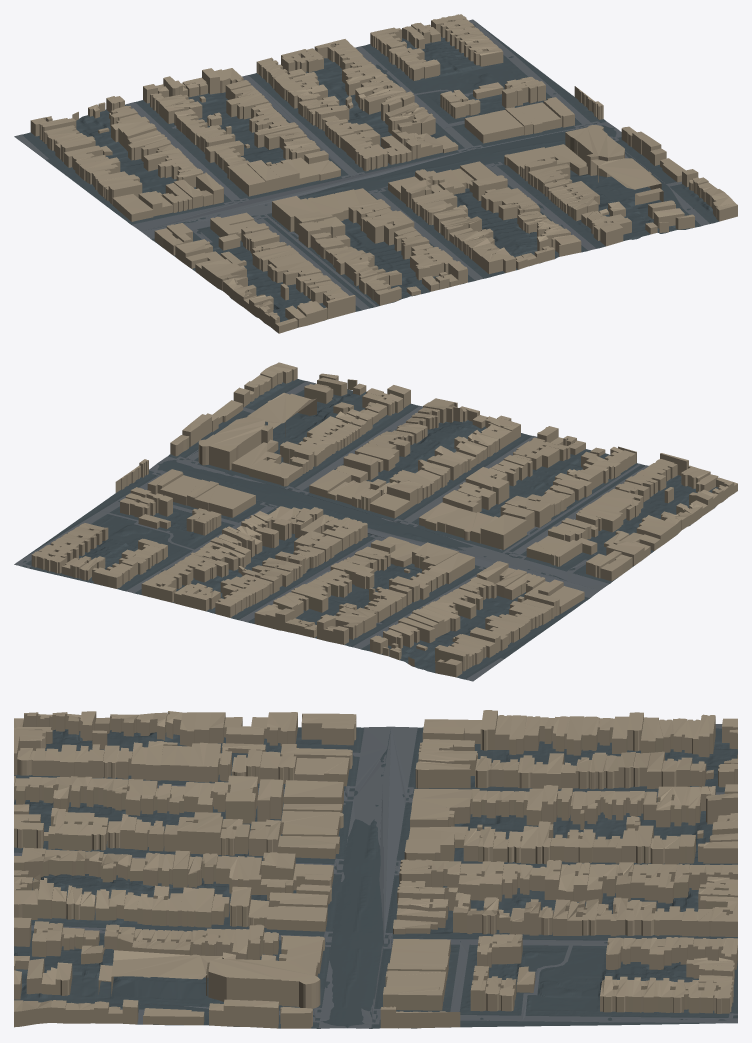
File: epsg26910-1421-10889.lod0.glb
The picture shows the model from 3 angles, top to bottom: view 1: azimuth 30°, elevation 25°; view 2: azimuth 150°, elevation 25°; view 3: azimuth 270°, elevation 25°; orthographic projection. The views are drawn at different scales.
Parts seen in each view (by area): view 1: epsg26910-1421-10889-lod0; view 2: epsg26910-1421-10889-lod0; view 3: epsg26910-1421-10889-lod0.
Boxes of the visible parts, x1,y1,x2,y2 form: epsg26910-1421-10889-lod0: (14, 14, 737, 333); epsg26910-1421-10889-lod0: (14, 362, 737, 681); epsg26910-1421-10889-lod0: (14, 710, 737, 1028).
Bounding box in the file's own units: 384 × 21.46 × 384.
